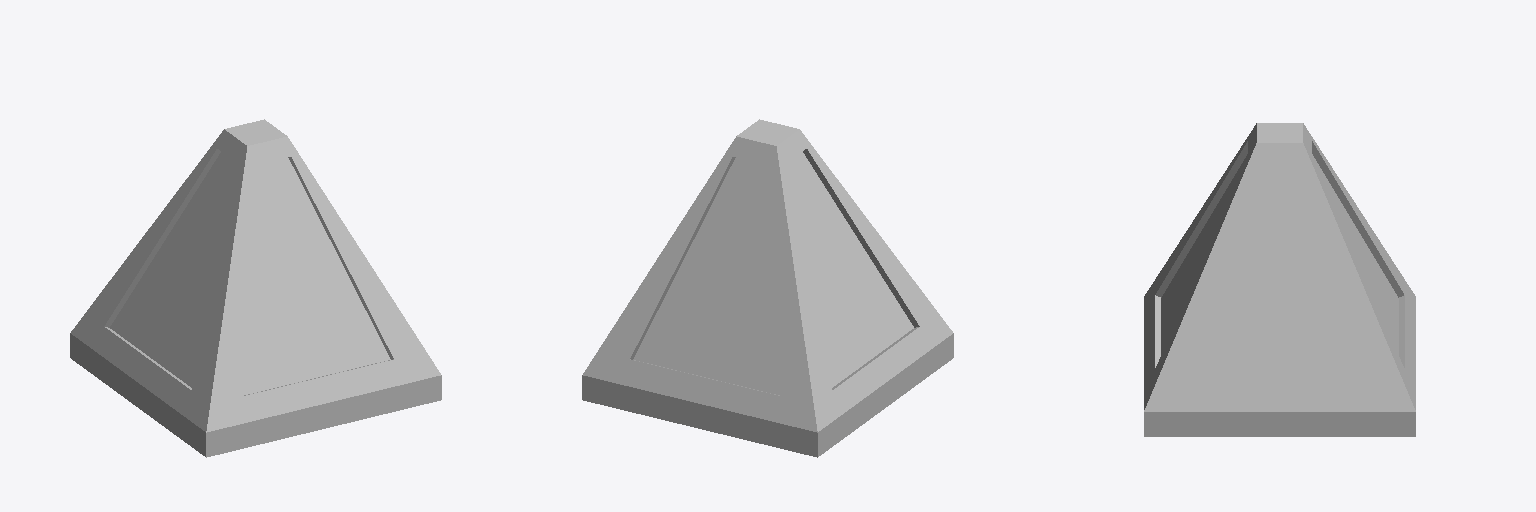
Rendered from modelwayfinder.obj.
The picture shows the model from 3 angles: view 1: azimuth 30°, elevation 25°; view 2: azimuth 150°, elevation 25°; view 3: azimuth 270°, elevation 25°; orthographic projection.
Parts seen in each view (by area): view 1: Cube_Cube.001; view 2: Cube_Cube.001; view 3: Cube_Cube.001.
Boxes of the visible parts, box(x1,y1,x2,y2) form: Cube_Cube.001: box(70, 119, 441, 457); Cube_Cube.001: box(582, 119, 953, 457); Cube_Cube.001: box(1144, 123, 1415, 436).
Size of the model in its own units: 2 by 2 by 2.